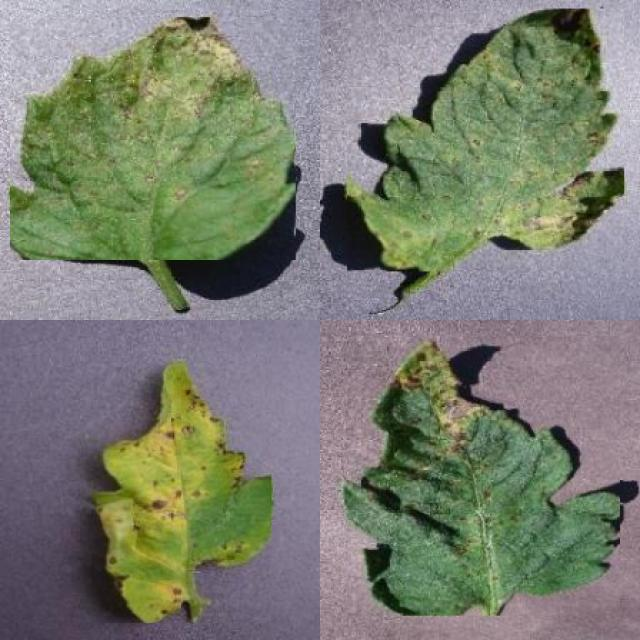Septoria: (344, 336, 620, 616), (348, 9, 625, 271), (10, 17, 296, 260), (87, 358, 272, 623)
